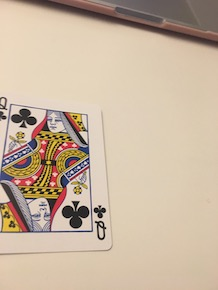QueenOfClubs: (1, 91, 115, 259)
